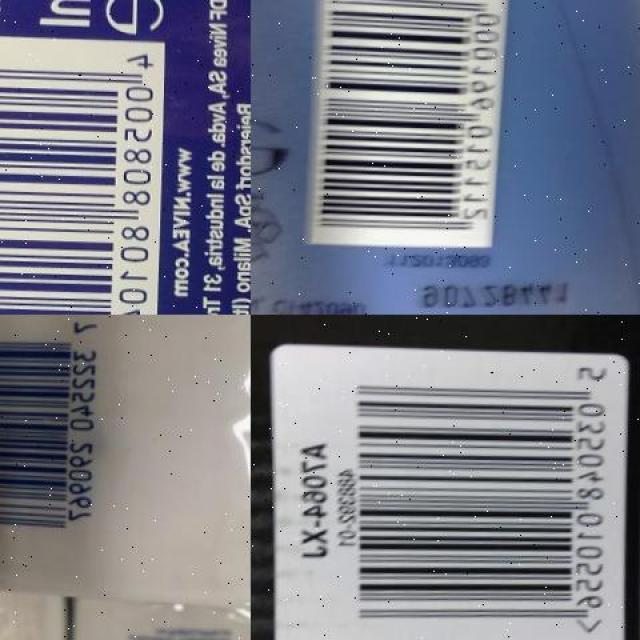Barcode: (344, 361, 617, 640), (303, 0, 509, 255), (0, 40, 160, 315), (0, 315, 126, 562)
